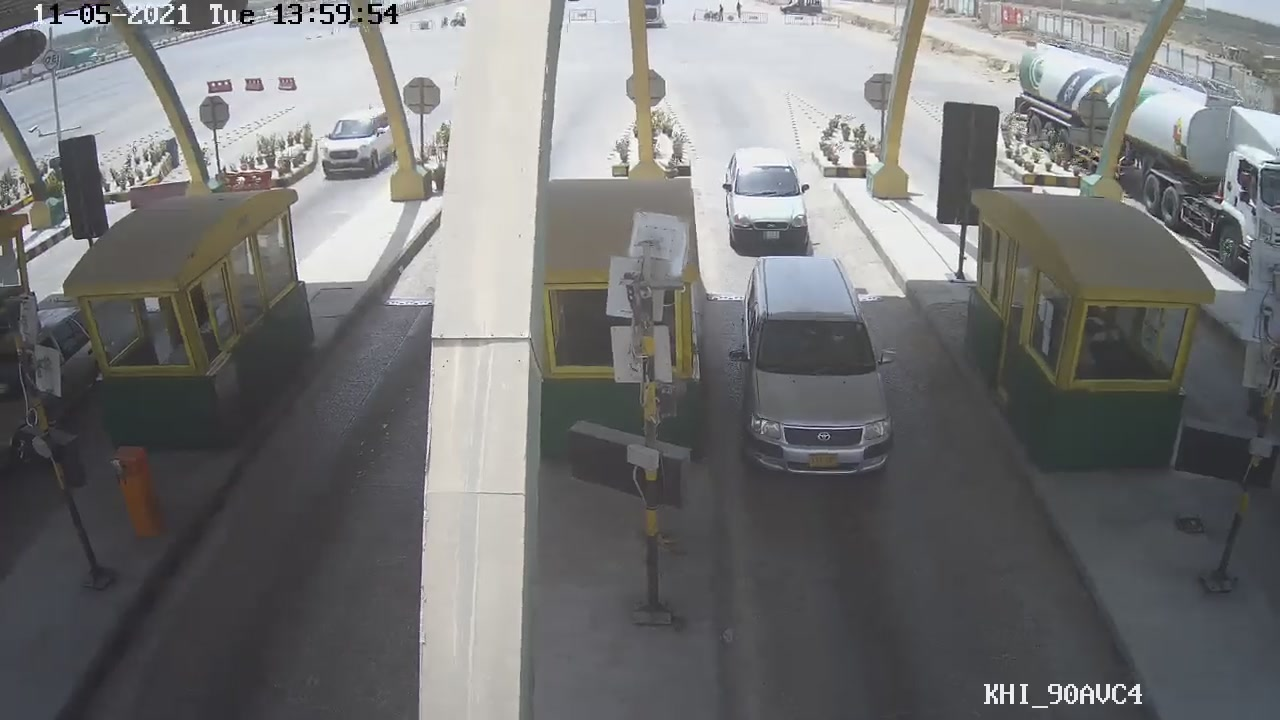F1: (731, 243, 905, 481)
